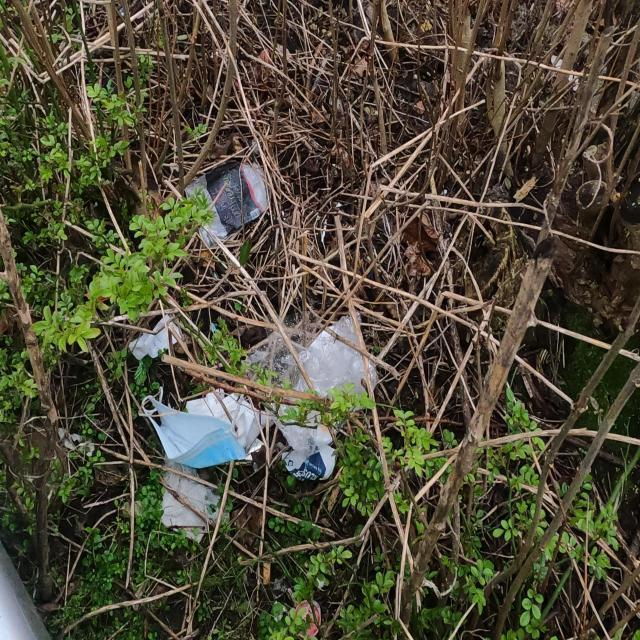Cup: (183, 159, 272, 250)
Mask: (140, 386, 247, 470), (185, 386, 275, 449)
Paper: (160, 454, 230, 546), (128, 314, 182, 362)
